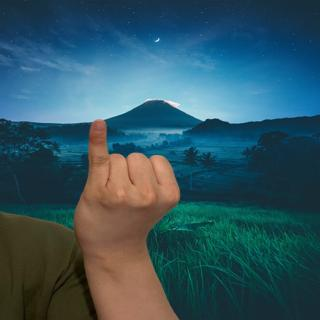FINE: (67, 116, 185, 262)
